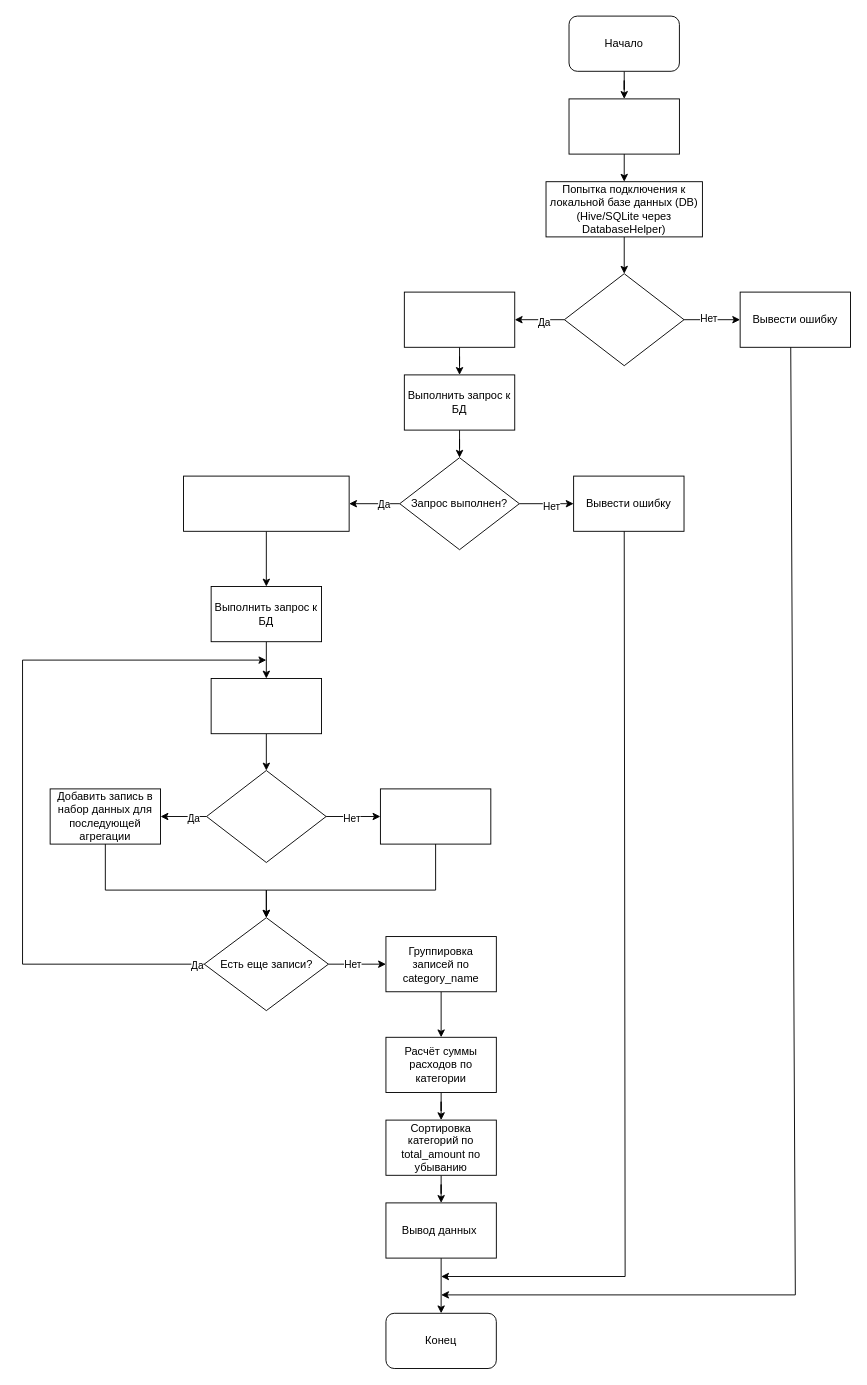
Some shapes in this 867 by 1385 pixel diagram are drawn without their labels. Here are the shapes that lost their labels. From the top down, the centre of each, then its label:
(x=623, y=126): Инициализация параметров: userId, startDate, endDate
(x=459, y=319): Открыть таблицу transactions и categories
(x=624, y=319): Подключение успешно?
(x=266, y=503): Инициализировать пустой словарь analytics (ключ: category_name, значение: сумма)
(x=266, y=706): Проверка записи: t.transaction_type == expense
(x=266, y=816): Проверка прошла?
(x=435, y=816): Исключить запись из обработки
